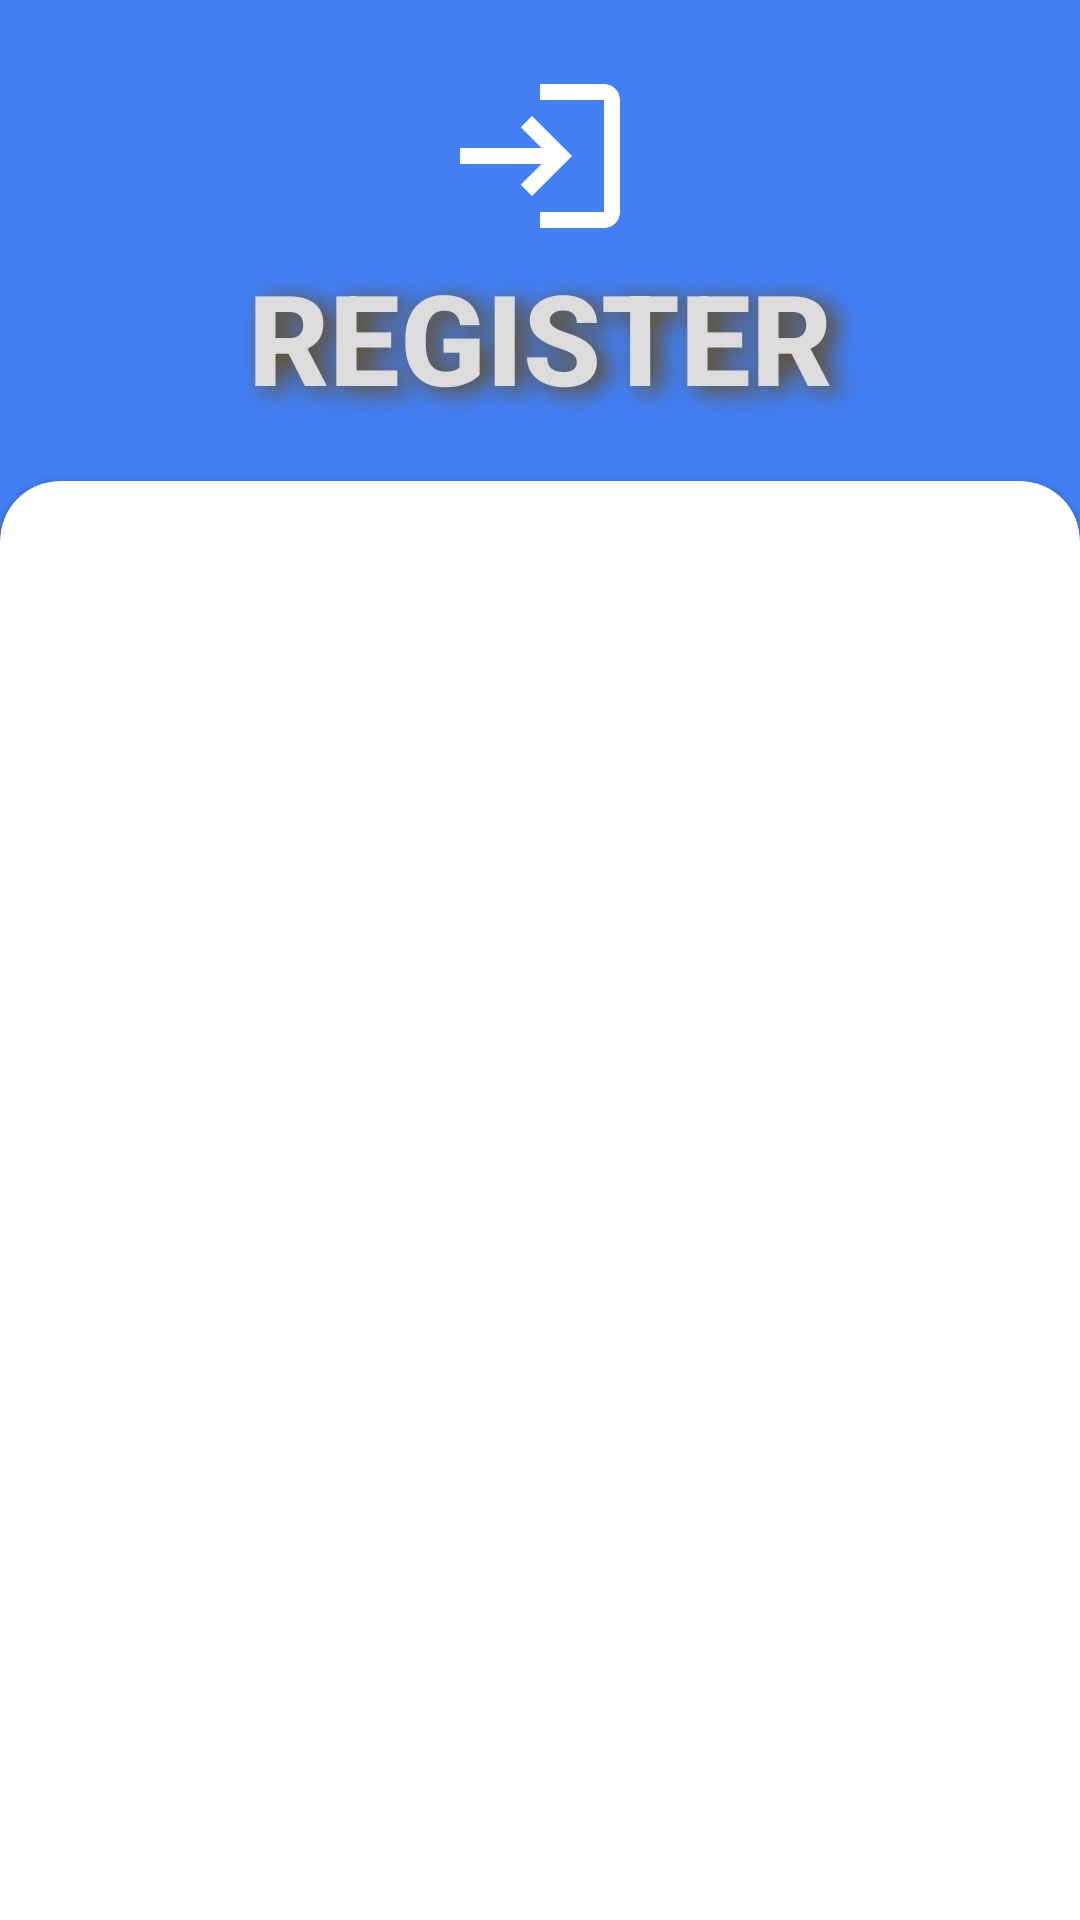

Screen size 1080x1920. Icon name, then its center in pixels as point (x, y):
login: point (540, 156)
